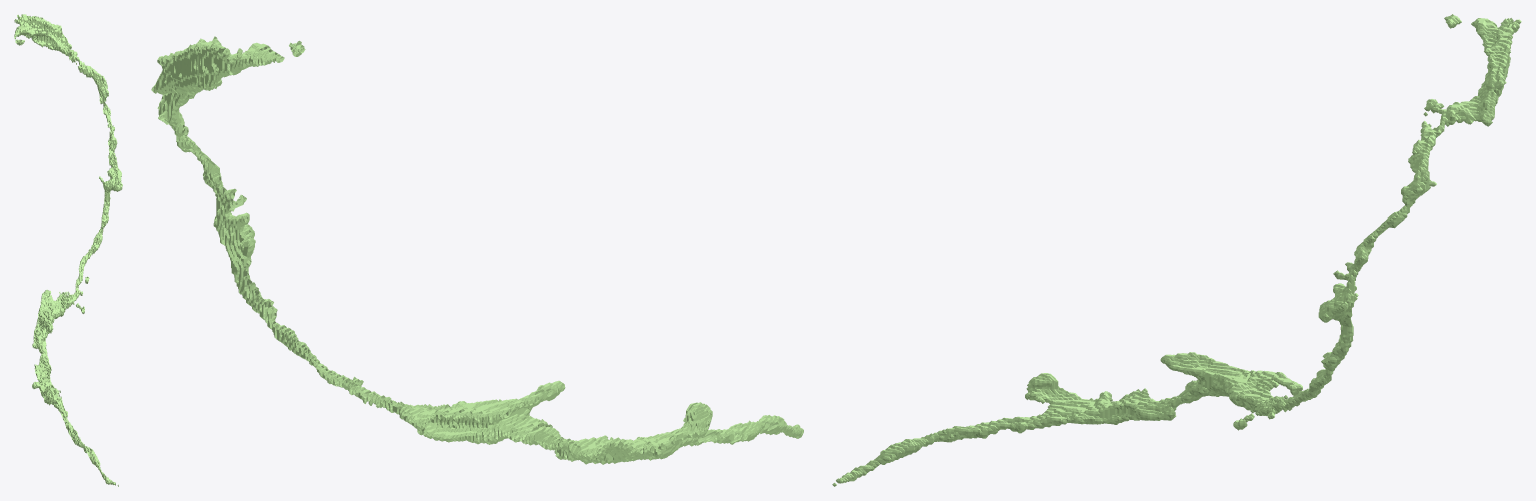
The model's file is SVV_AIZR.gltf.
The picture shows the model from 3 angles, left to right: view 1: azimuth 30°, elevation 25°; view 2: azimuth 150°, elevation 25°; view 3: azimuth 270°, elevation 25°; orthographic projection. The views are drawn at different scales.
Parts seen in each view (by area): view 1: AIZR; view 2: AIZR; view 3: AIZR.
Part boxes in pixels (left/top/right/bottom): AIZR: left=14, top=14, right=122, bottom=486; AIZR: left=151, top=36, right=803, bottom=464; AIZR: left=832, top=14, right=1521, bottom=486.
Bounding box in the file's own units: 92855 × 162270 × 185258.
